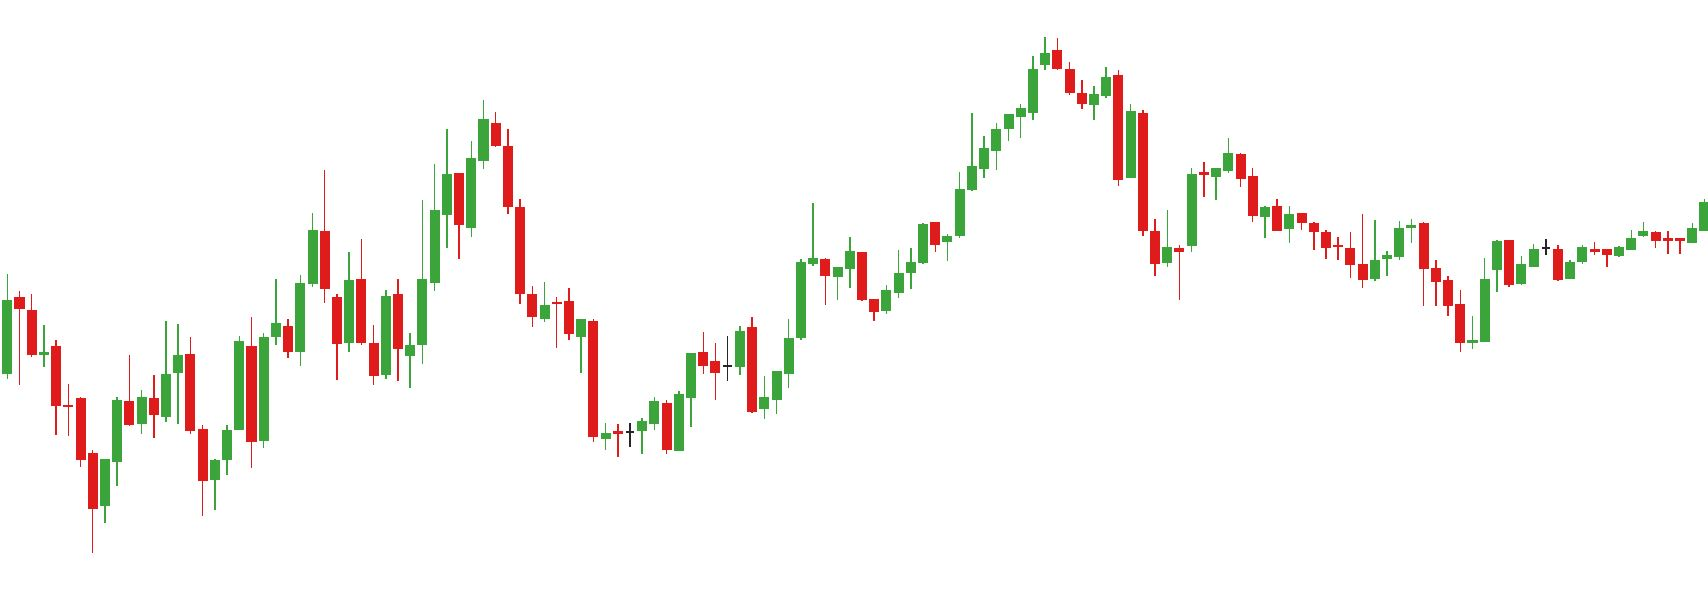buy: (109, 398, 222, 524), (331, 285, 416, 391)
sell: (317, 130, 467, 276)
